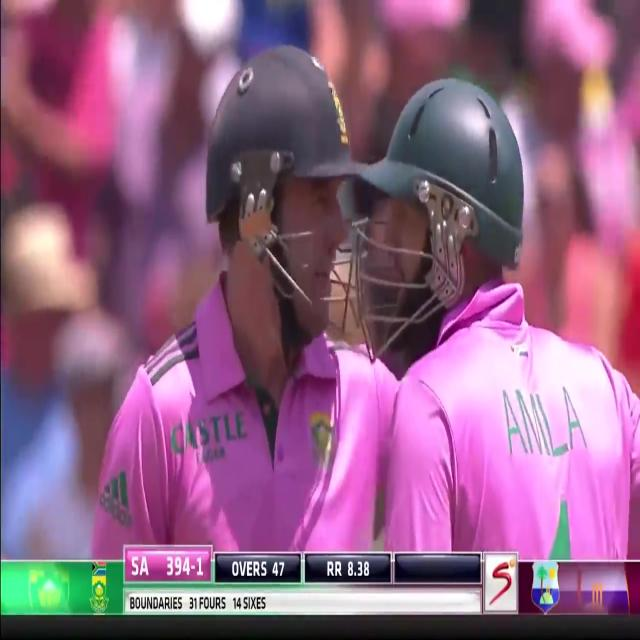Ball: (93, 53, 441, 555), (339, 88, 640, 557)
